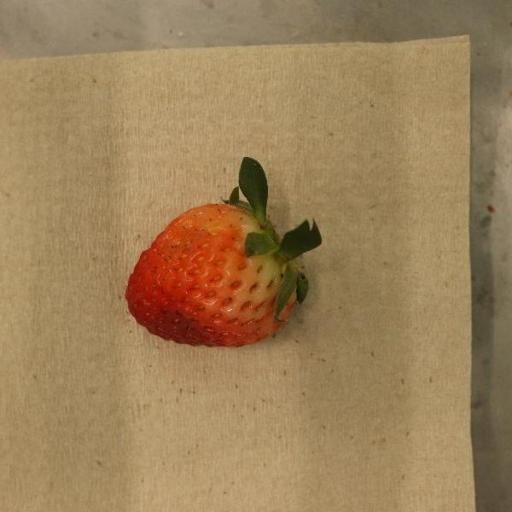Strawberry: (125, 157, 323, 348)
